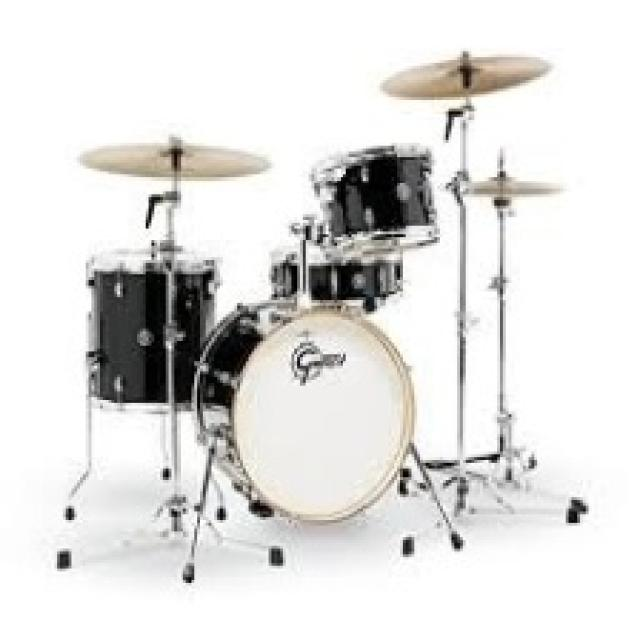drums: (53, 52, 595, 583)
